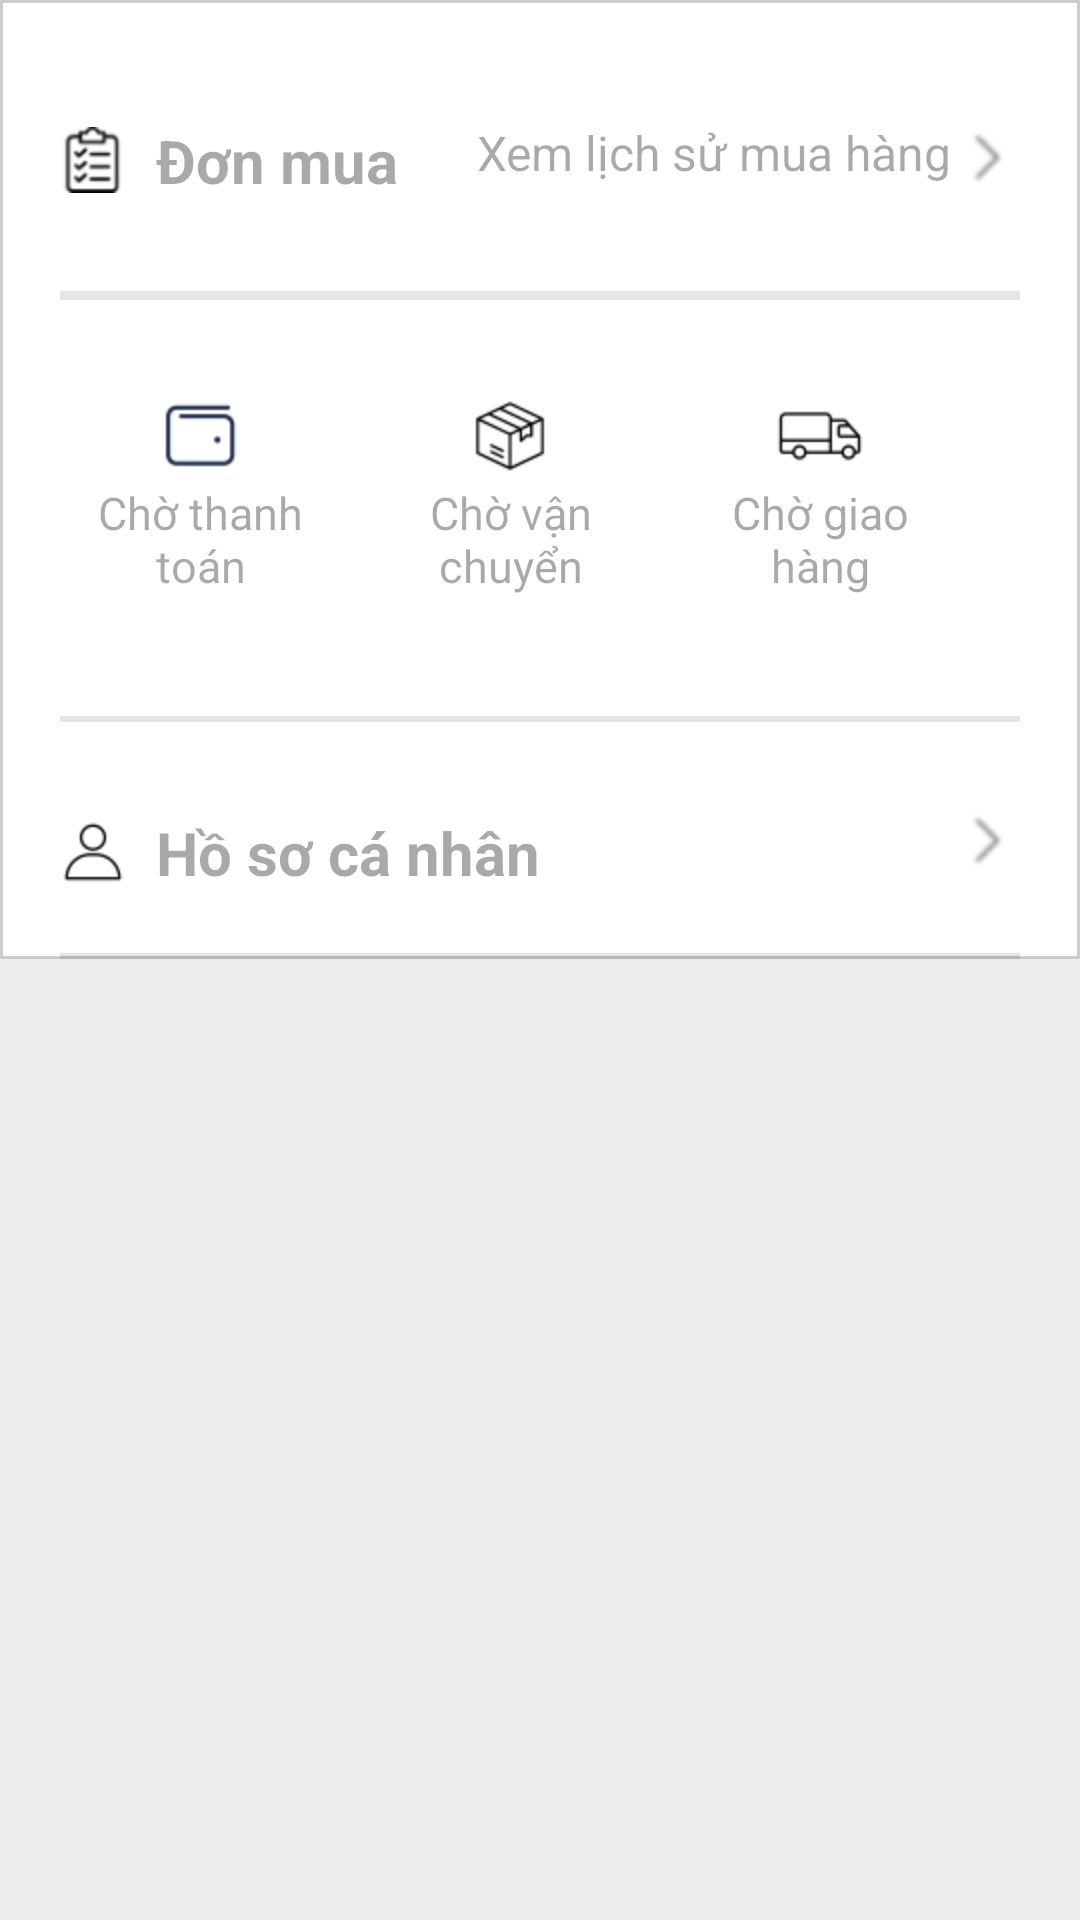

Where icons sit on this 1080px×1920px app screen, as (x1, y1, x2, y2):
turn to: (975, 818, 1000, 863)
